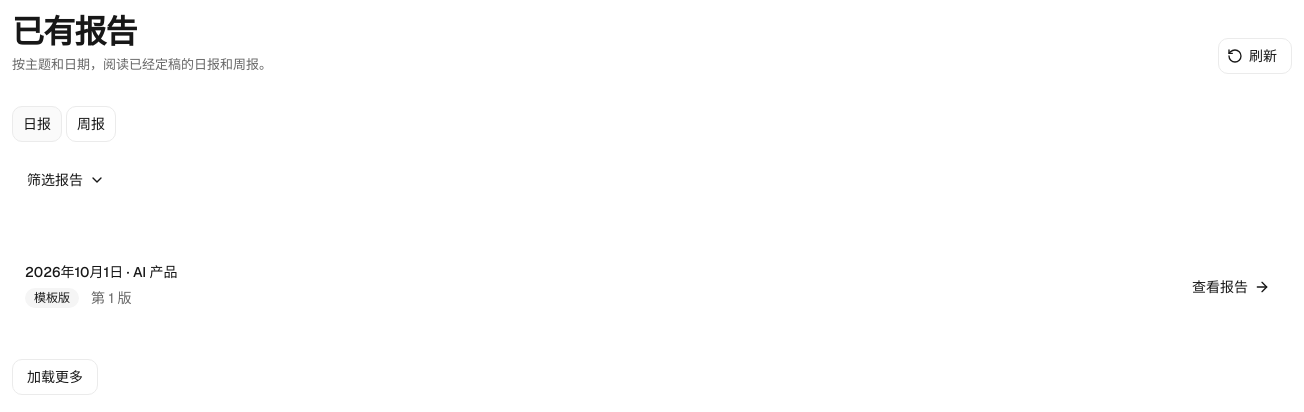
Scenario: switches to weekly reports with a fresh cursor and aborts daily pagination
Check: the button "加载更多" is shown, box [12, 359, 98, 395]
Click the radio button labelled "周报".
click(91, 124)  # box [66, 106, 116, 142]
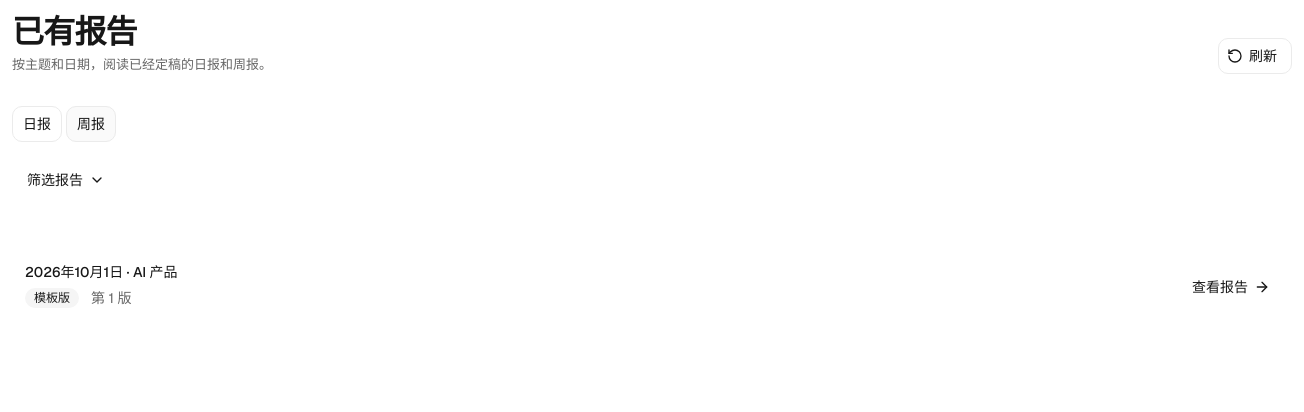
Check: the button "加载更多" is gone
